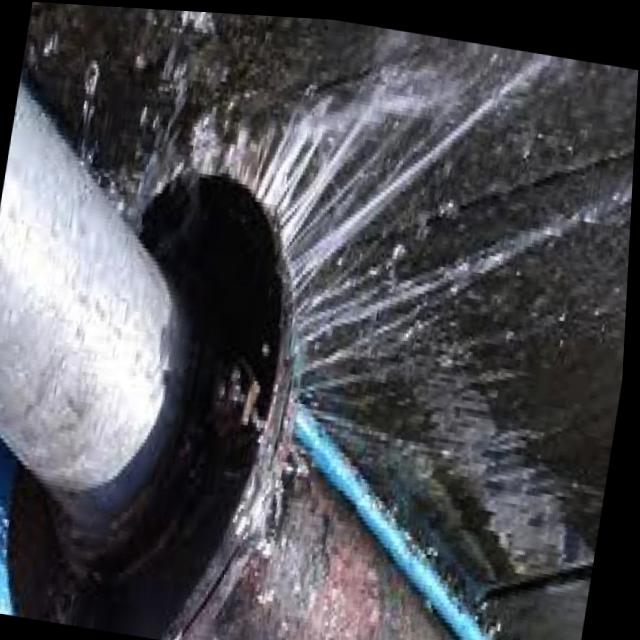leak: (21, 2, 638, 605)
